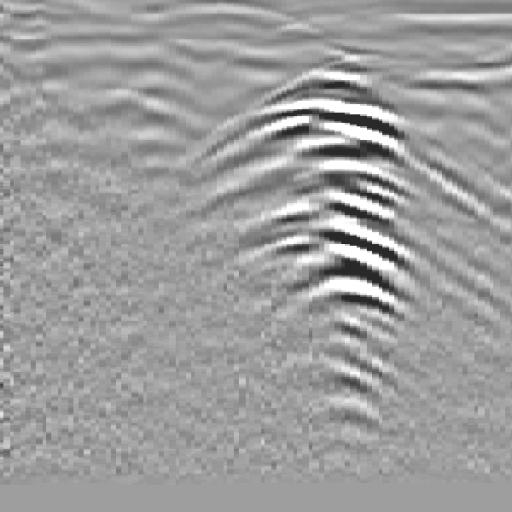metalic: (179, 25, 512, 451)
